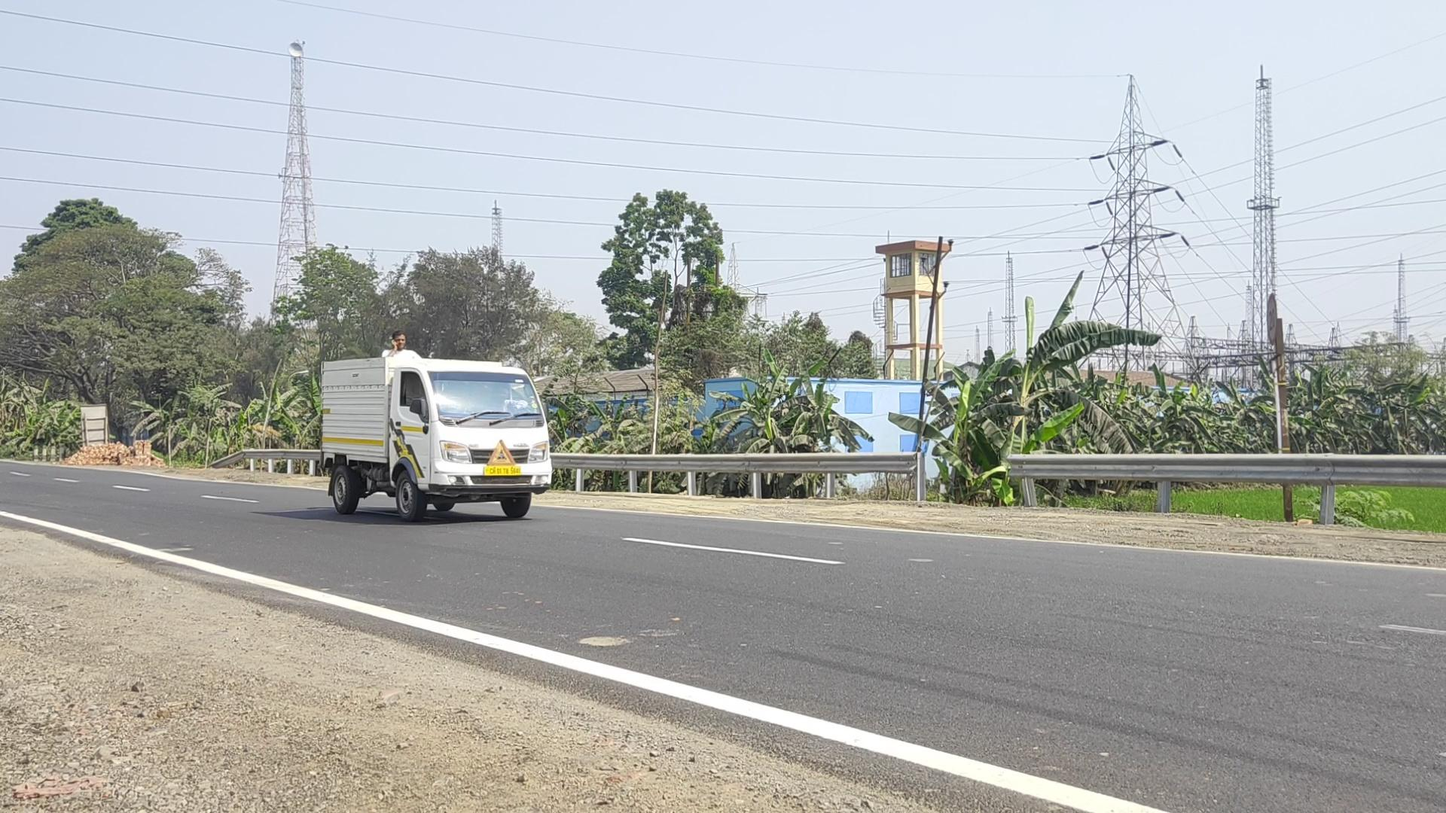van: (319, 330, 553, 523)
